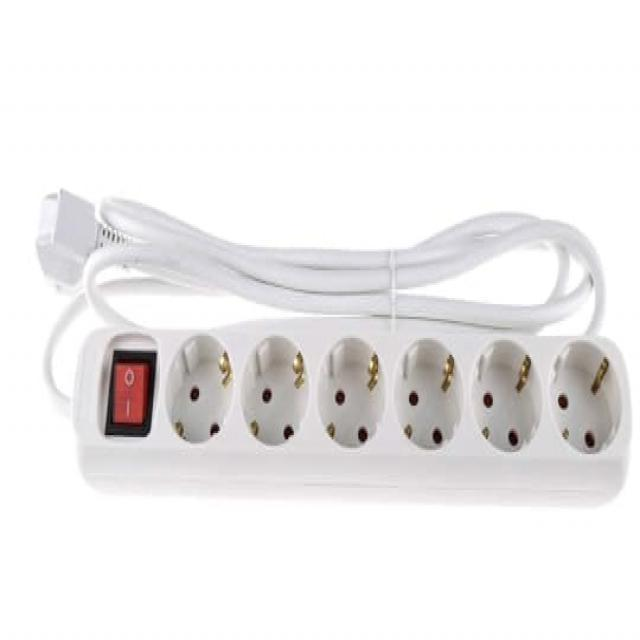typeb: (69, 287, 637, 537)
